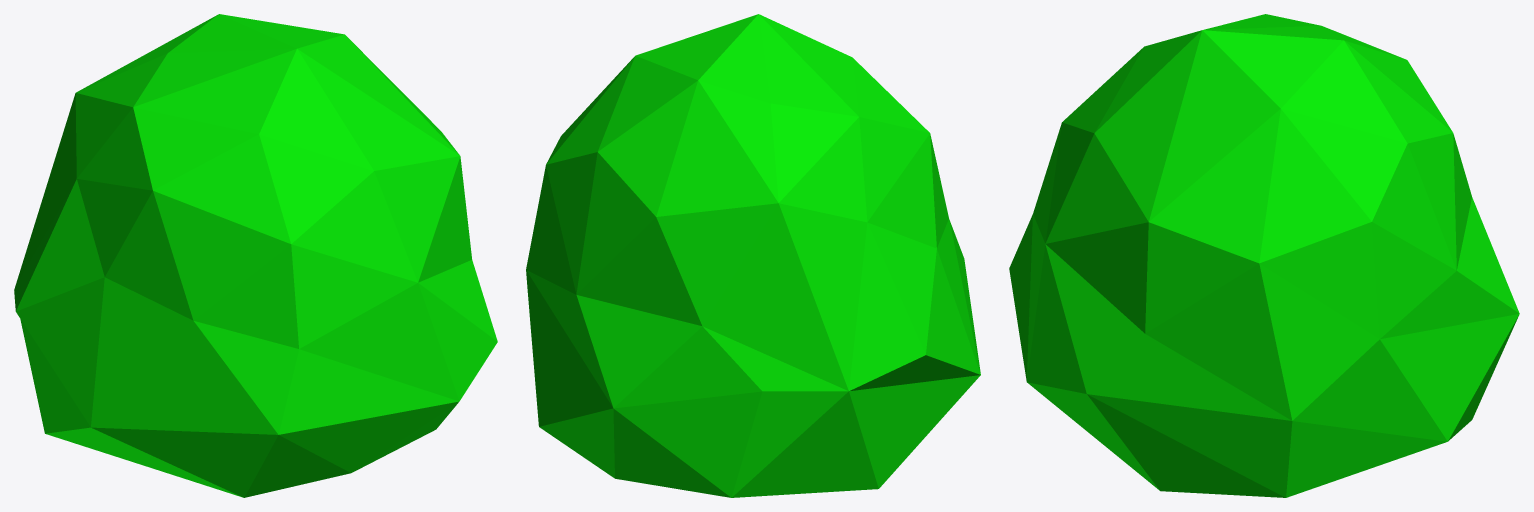
Rendered from BushSmall.fbx.
3 views of the same model, side by side, from view 1: azimuth 30°, elevation 25°; view 2: azimuth 150°, elevation 25°; view 3: azimuth 270°, elevation 25° (orthographic). The views are drawn at different scales.
Parts seen in each view (by area): view 1: BushSmall; view 2: BushSmall; view 3: BushSmall.
Part boxes in pixels (<box>): BushSmall: <box>14,14,497,497</box>; BushSmall: <box>526,14,980,497</box>; BushSmall: <box>1009,14,1519,497</box>.
Bounding box in the file's own units: 214 × 200 × 224.
